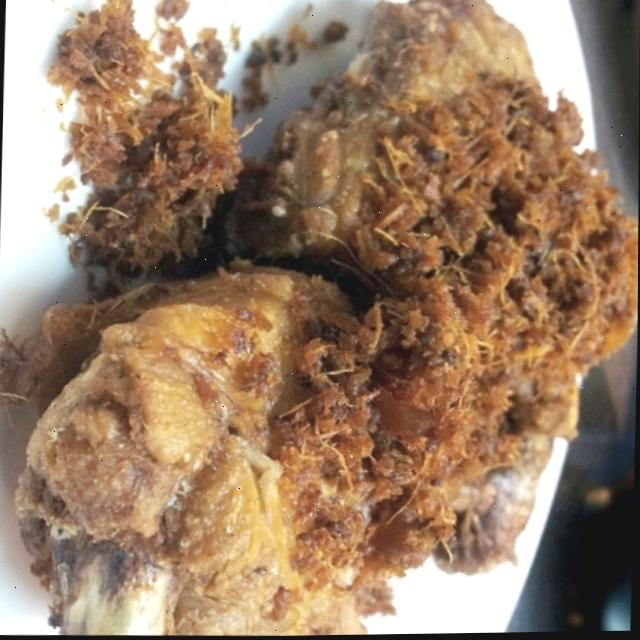鸡肉料理 含炸鸡: (48, 0, 640, 639)
